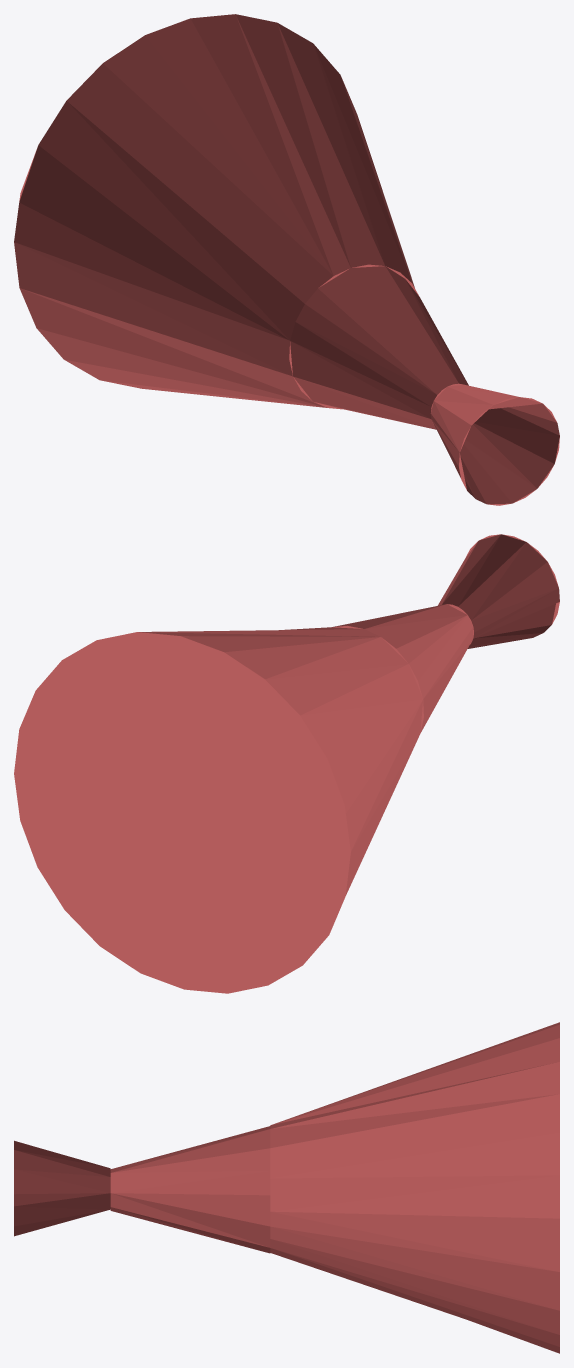
File: model_align.obj
3 renders of one model, top to bottom at view 1: azimuth 30°, elevation 25°; view 2: azimuth 150°, elevation 25°; view 3: azimuth 270°, elevation 25°, orthographic. The views are drawn at different scales.
Visible parts, largest first — view 1: mesh1_mesh1-geometry; view 2: mesh1_mesh1-geometry; view 3: mesh1_mesh1-geometry.
Boxes of the visible parts, left/top/right/bottom form: mesh1_mesh1-geometry: left=14, top=14, right=559, bottom=505; mesh1_mesh1-geometry: left=14, top=534, right=559, bottom=993; mesh1_mesh1-geometry: left=14, top=1022, right=559, bottom=1353.
Size of the model in its own units: 0.1213 by 0.1213 by 0.1992.
